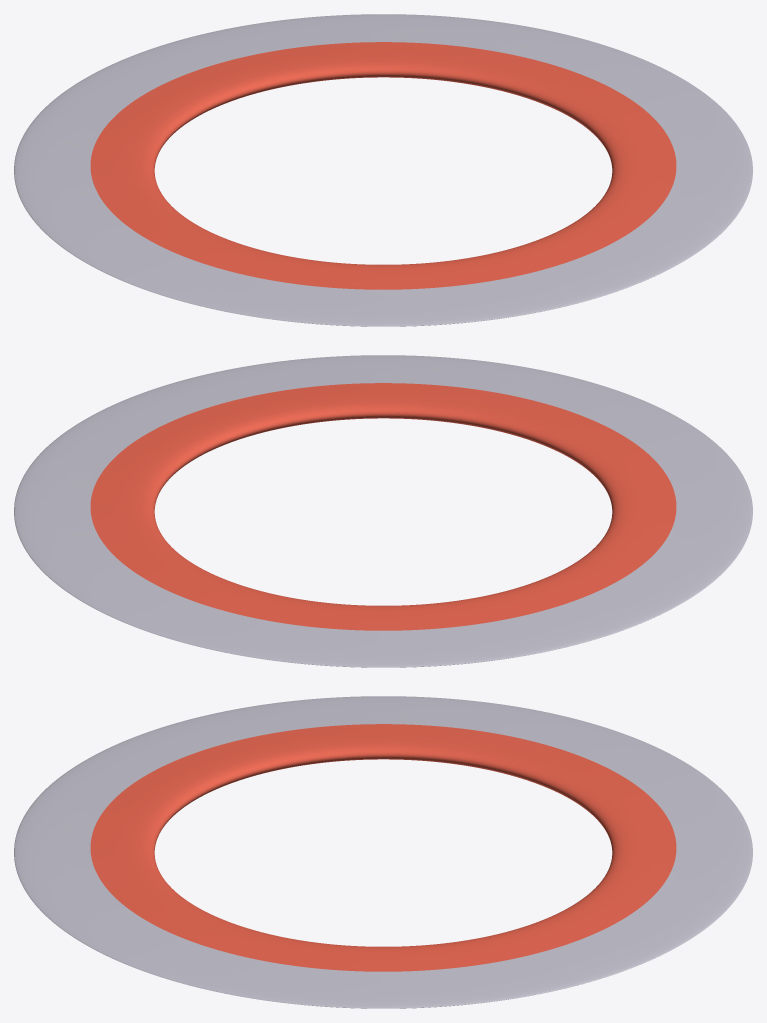
Rendered from ringsword.fbx.
The picture shows the model from 3 angles, top to bottom: view 1: azimuth 30°, elevation 25°; view 2: azimuth 150°, elevation 25°; view 3: azimuth 270°, elevation 25°; orthographic projection.
Parts seen in each view (by area): view 1: Cylinder; view 2: Cylinder; view 3: Cylinder.
Part boxes in pixels (bbox=[...]): Cylinder: bbox=[14, 14, 752, 326]; Cylinder: bbox=[14, 355, 752, 667]; Cylinder: bbox=[14, 696, 752, 1008].
Size of the model in its own units: 164 by 3.49 by 164.
